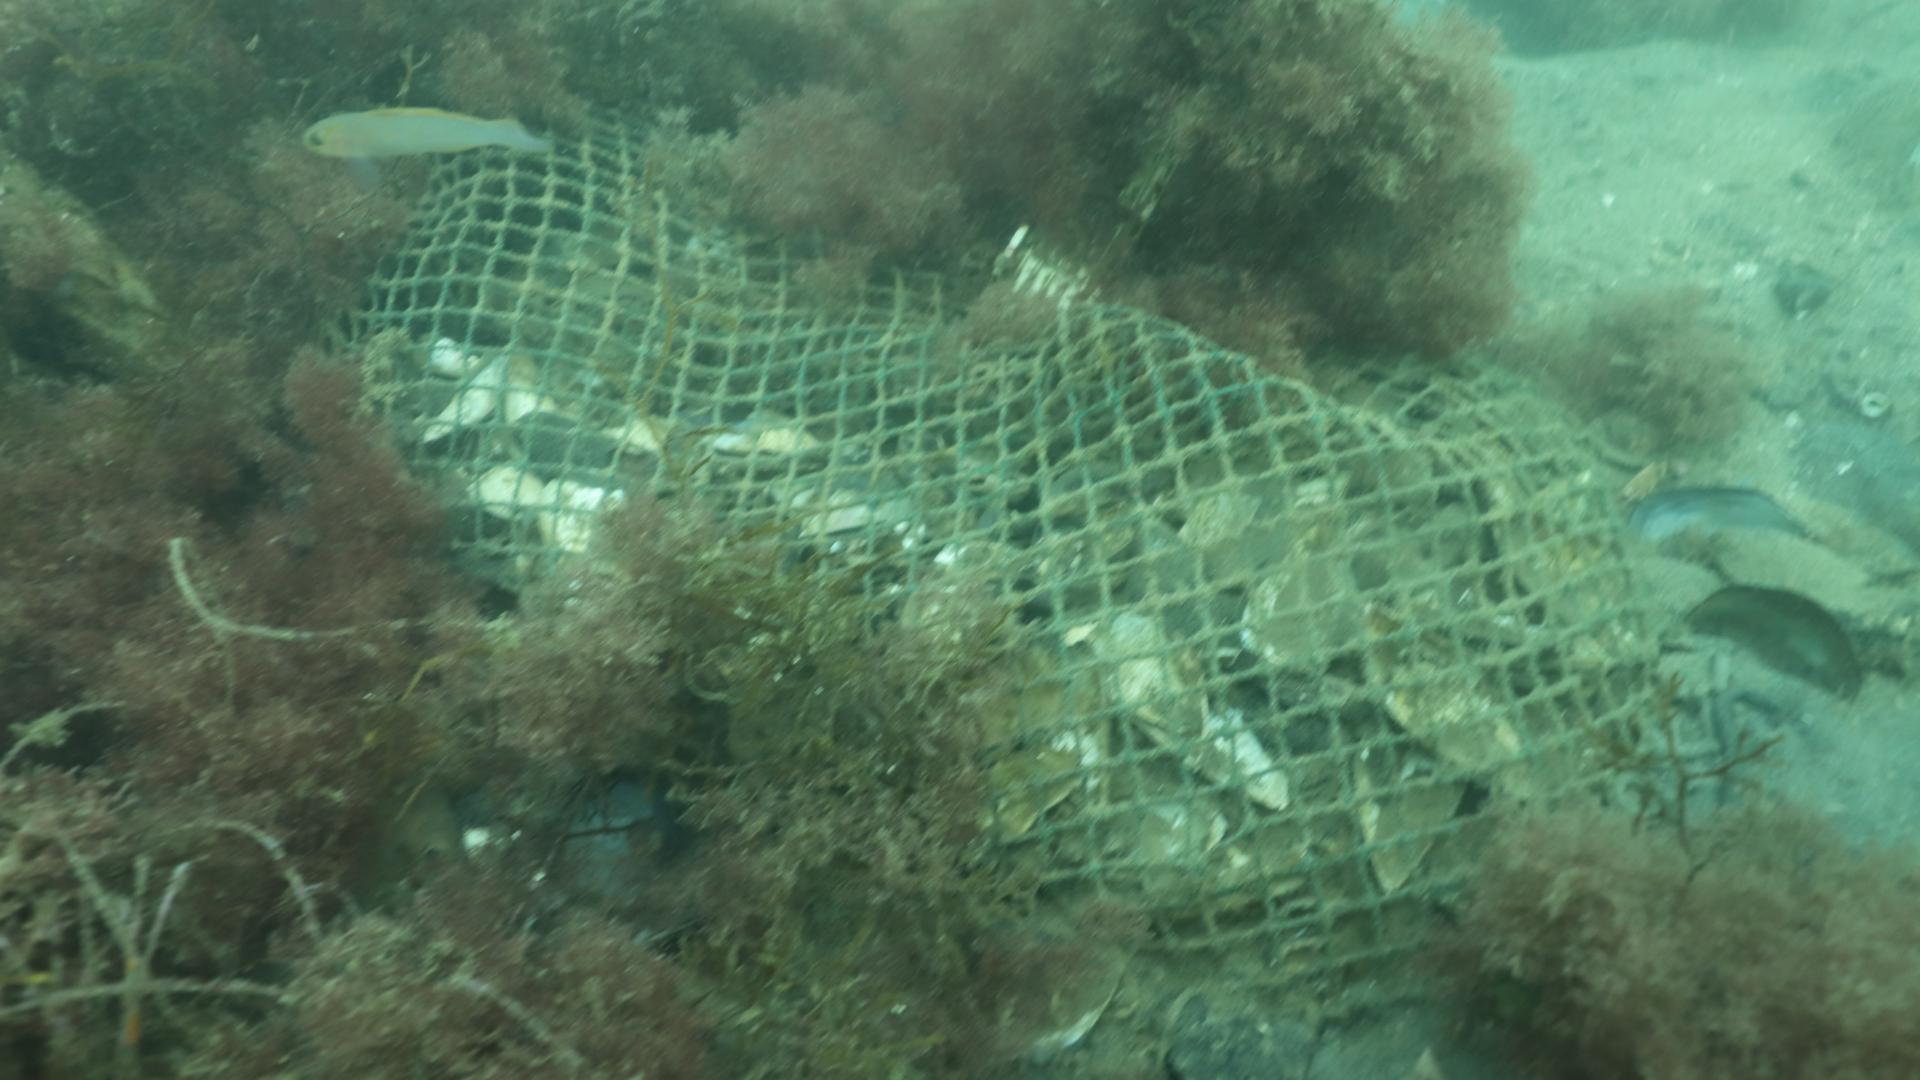fish net: (314, 103, 1726, 1015)
